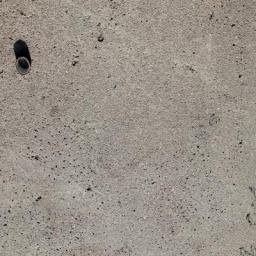FOD: (12, 38, 38, 82)
